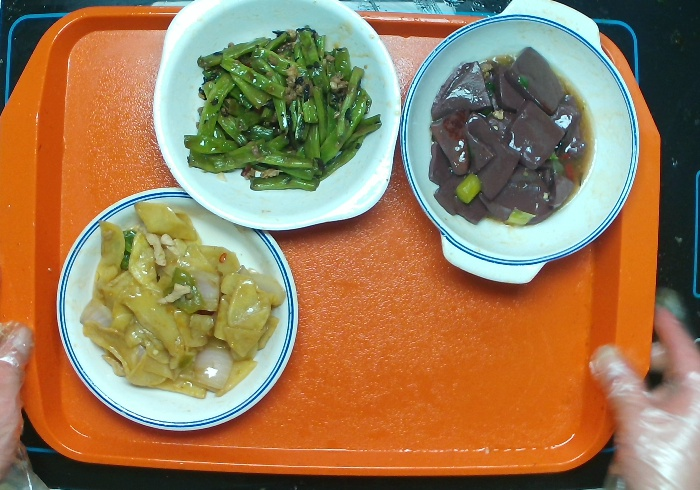HZYJPL-Dai_Er_Bai_Yuan_Wan: (151, 1, 405, 242)
HZYJPL-Lan_Bian_Dai_Er_Wan: (399, 1, 645, 292)
HZYJPL-Lan_Bian_Yuan_Die: (51, 182, 303, 439)
